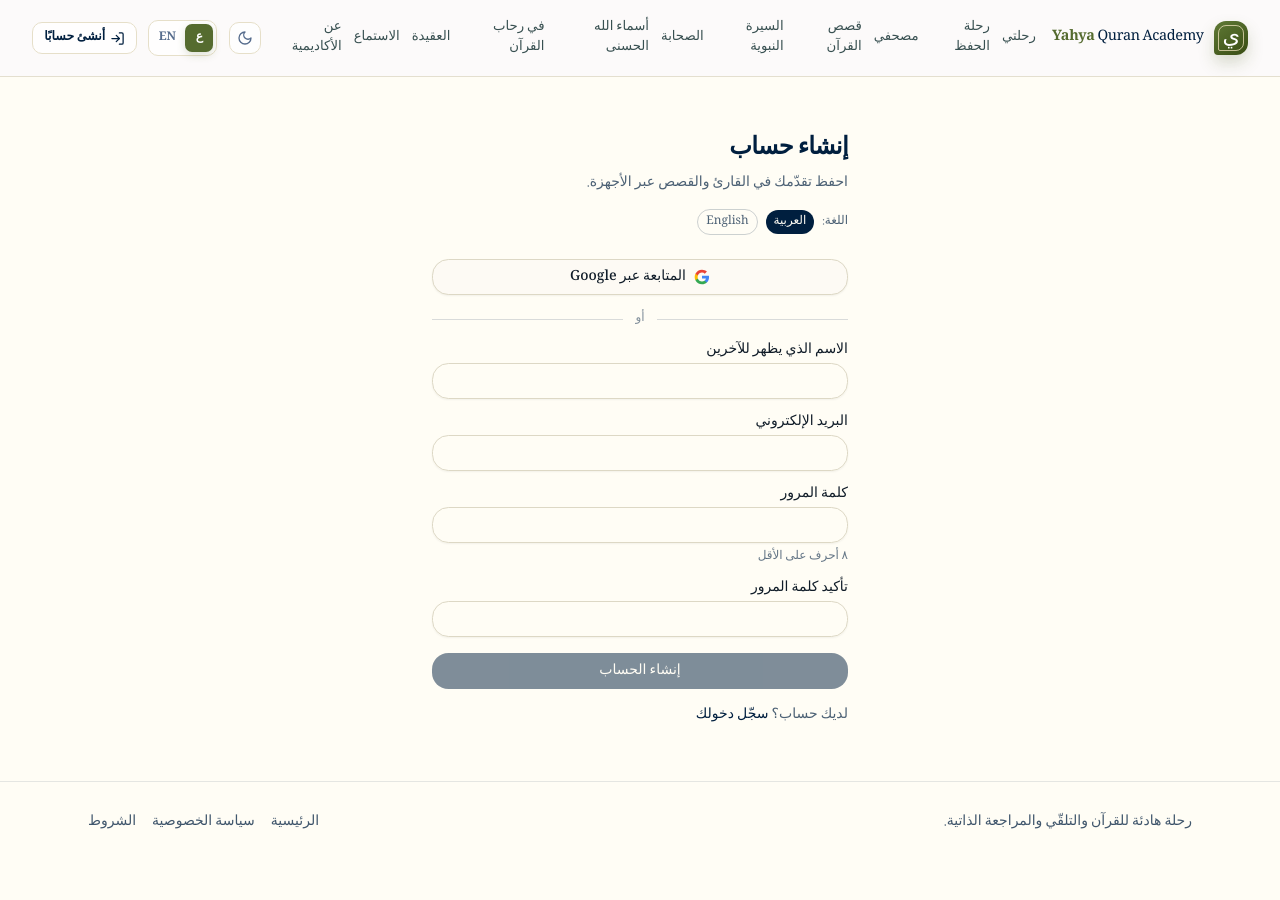
Test case: the register form's password check › refuses the reader's own address as their password
The image size is (1280, 900).
Expected: the password field with test id "register-password" is shown, 432,507 -> 848,543
Type "kareem@example.com" into the field with test id "register-email" at (640, 453), box 432,435 -> 848,471
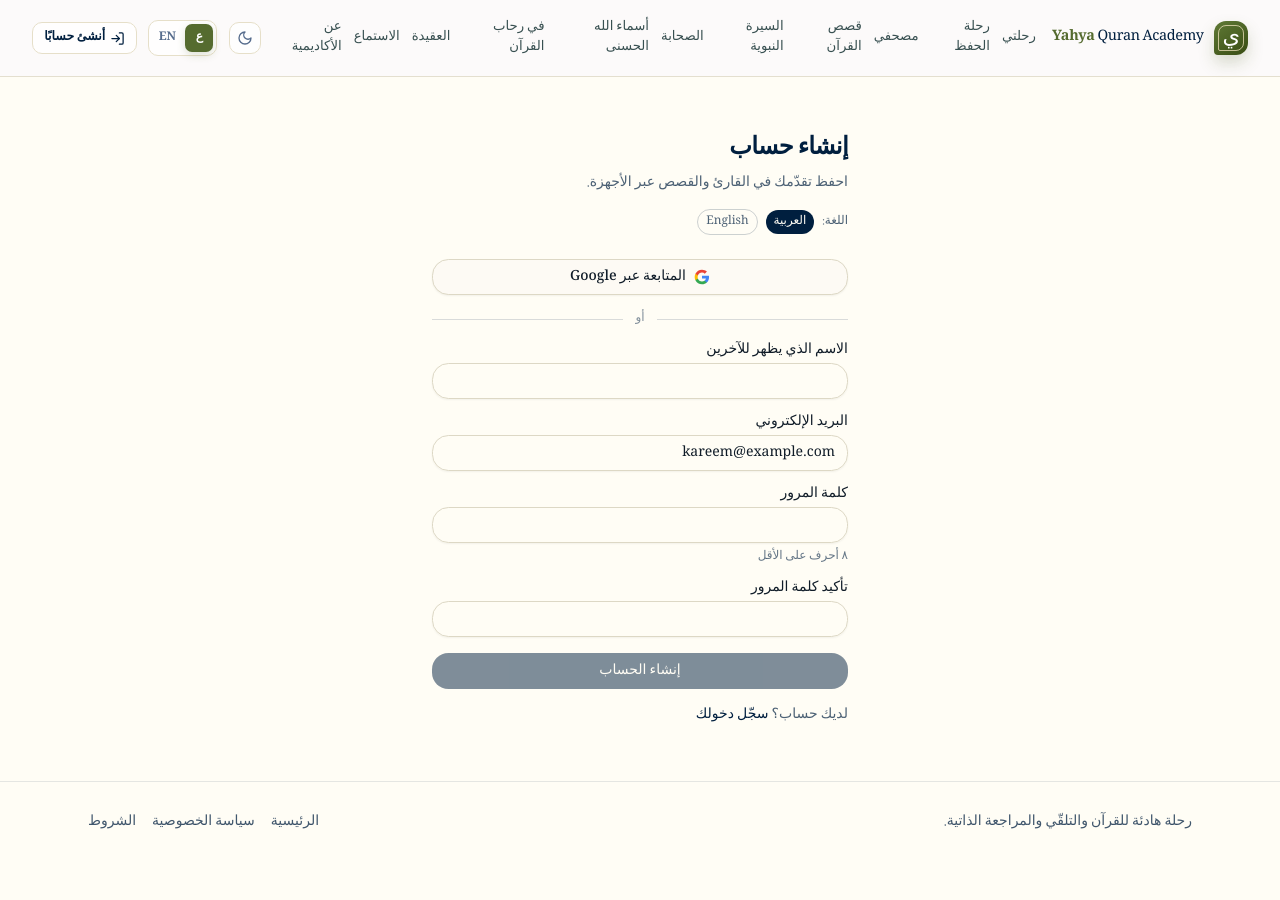
Type "kareem-2026" into the password field with test id "register-password" at (640, 525), box 432,507 -> 848,543
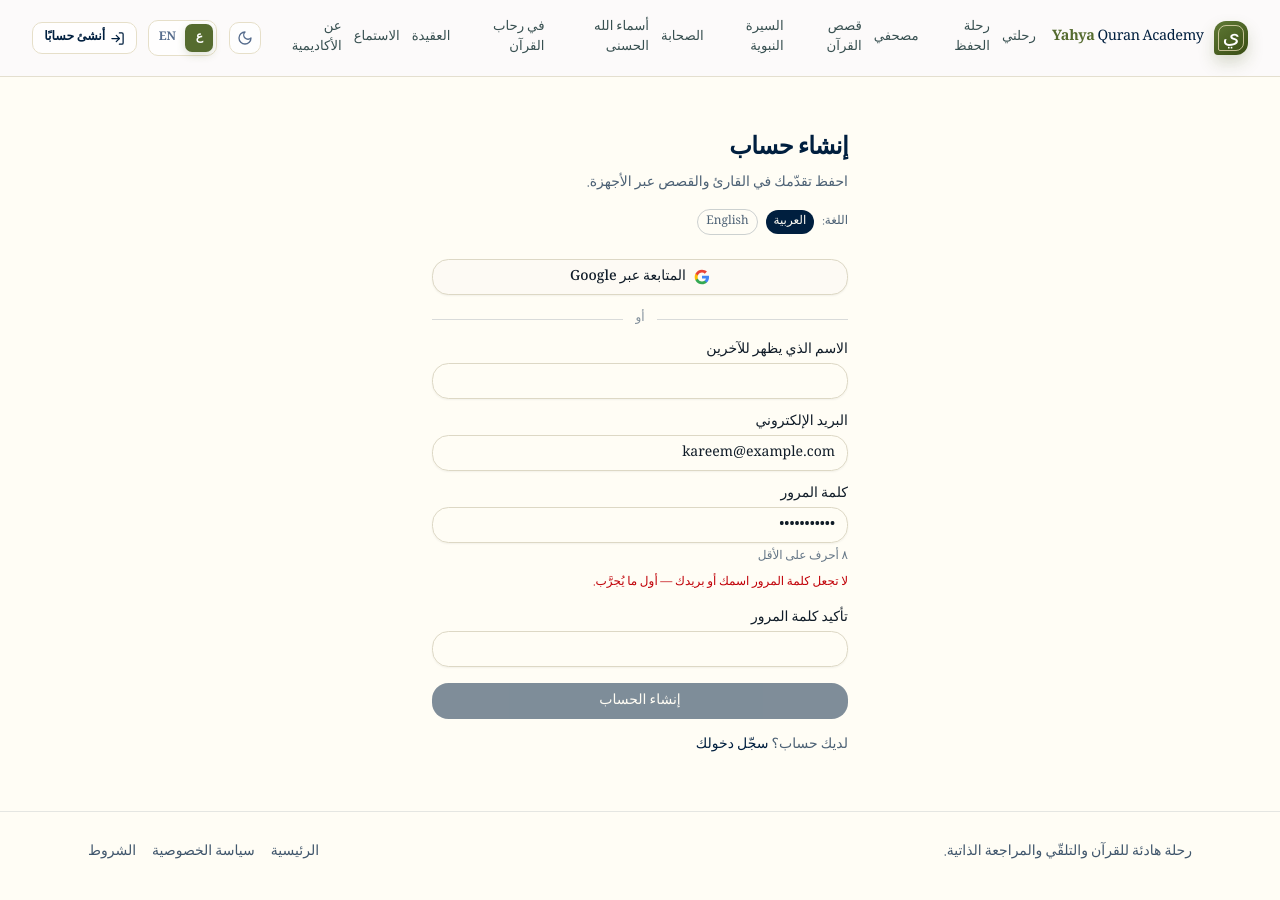
Expected: the button with test id "register-submit" is disabled, 432,683 -> 848,719
Now the message reads "لا تجعل كلمة المرور اسمك أو بريدك — أول ما يُجرَّب.", box 593,572 -> 848,593
